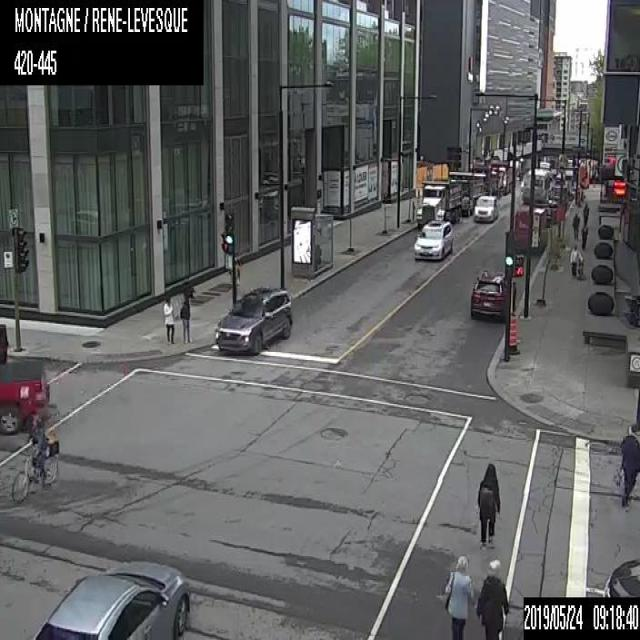bus: (522, 168, 552, 206)
construction: (510, 315, 518, 351)
cyclist: (11, 412, 60, 503)
pedestrian: (441, 550, 476, 638), (476, 553, 510, 639), (613, 423, 639, 505), (476, 461, 500, 544), (161, 294, 175, 342), (178, 287, 189, 341), (569, 245, 584, 278), (581, 202, 589, 228), (572, 210, 579, 238), (581, 225, 588, 247)
vehicle: (29, 557, 191, 639), (213, 284, 292, 355), (0, 321, 50, 433), (469, 273, 516, 323), (414, 179, 462, 225), (449, 171, 486, 217), (514, 206, 548, 255), (412, 220, 452, 260), (603, 554, 639, 594), (473, 194, 497, 221), (539, 198, 559, 224)
